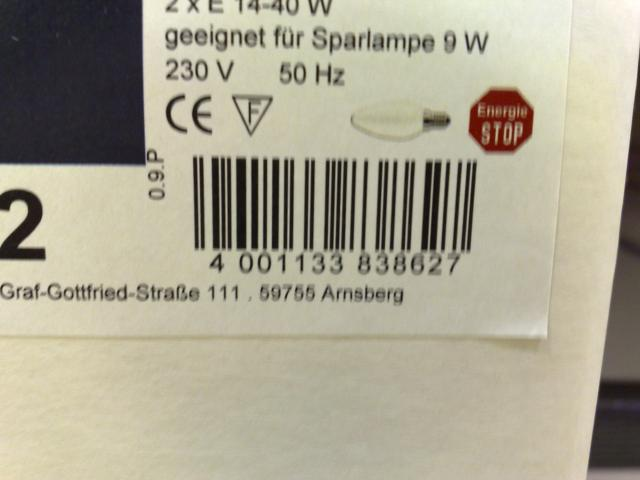Barkod: (190, 156, 476, 251)
